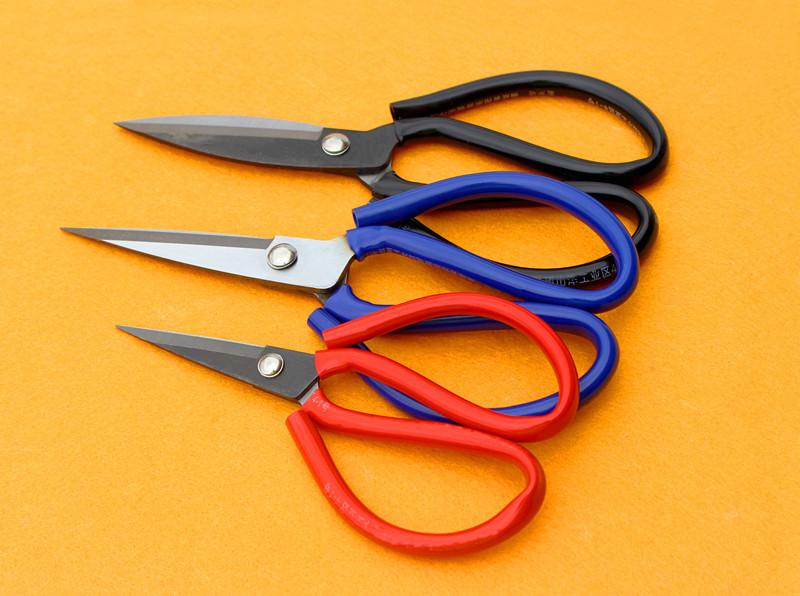scissor: (95, 58, 678, 589)
